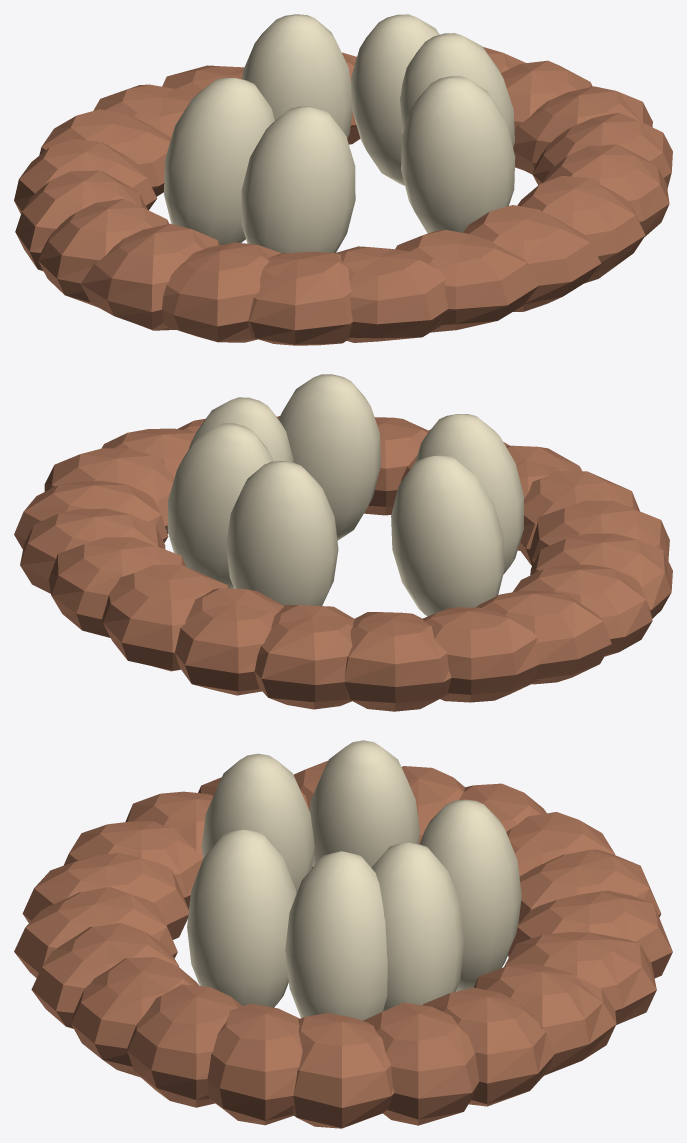
File: primeval-frontier-nest-clutch-2a0b8146__1761.glb
3 views of the same model, one above another, from view 1: azimuth 30°, elevation 25°; view 2: azimuth 150°, elevation 25°; view 3: azimuth 270°, elevation 25° (orthographic). The views are drawn at different scales.
Parts seen in each view (by area): view 1: nest-clutch; view 2: nest-clutch; view 3: nest-clutch.
Boxes of the visible parts, x1,y1,x2,y2 form: nest-clutch: (14, 14, 672, 345); nest-clutch: (14, 374, 672, 711); nest-clutch: (14, 740, 672, 1128).
Bounding box in the file's own units: 2.14 × 0.614 × 1.86.
